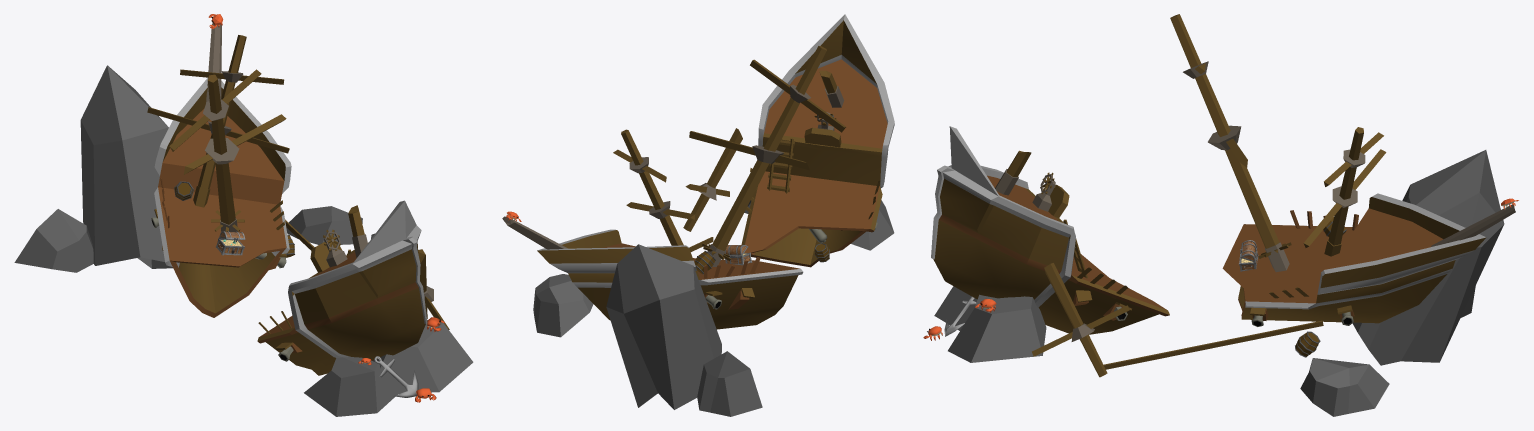
Rendered from Shipwreck soroo.fbx.
3 renders of one model, left to right at view 1: azimuth 30°, elevation 25°; view 2: azimuth 150°, elevation 25°; view 3: azimuth 270°, elevation 25°, orthographic. The views are drawn at different scales.
Parts seen in each view (by area): view 1: Ship, Chest.001; view 2: Ship, Chest.001; view 3: Ship.
Boxes of the visible parts, <box> form: Ship: <box>14,14,473,416</box>; Chest.001: <box>216,231,245,255</box>; Ship: <box>502,14,894,416</box>; Chest.001: <box>724,245,752,265</box>; Ship: <box>923,14,1518,416</box>.
Bounding box in the file's own units: 1319 × 1293 × 2216.
16 materials, 3 textured.
